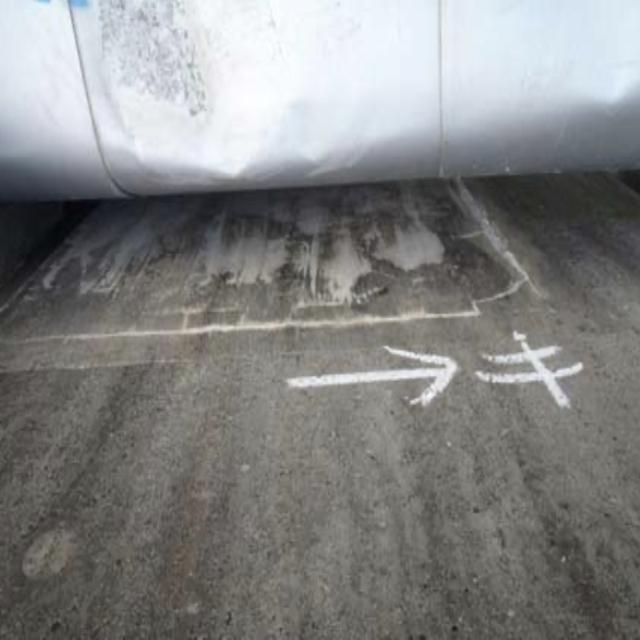freelime: (64, 193, 516, 297)
